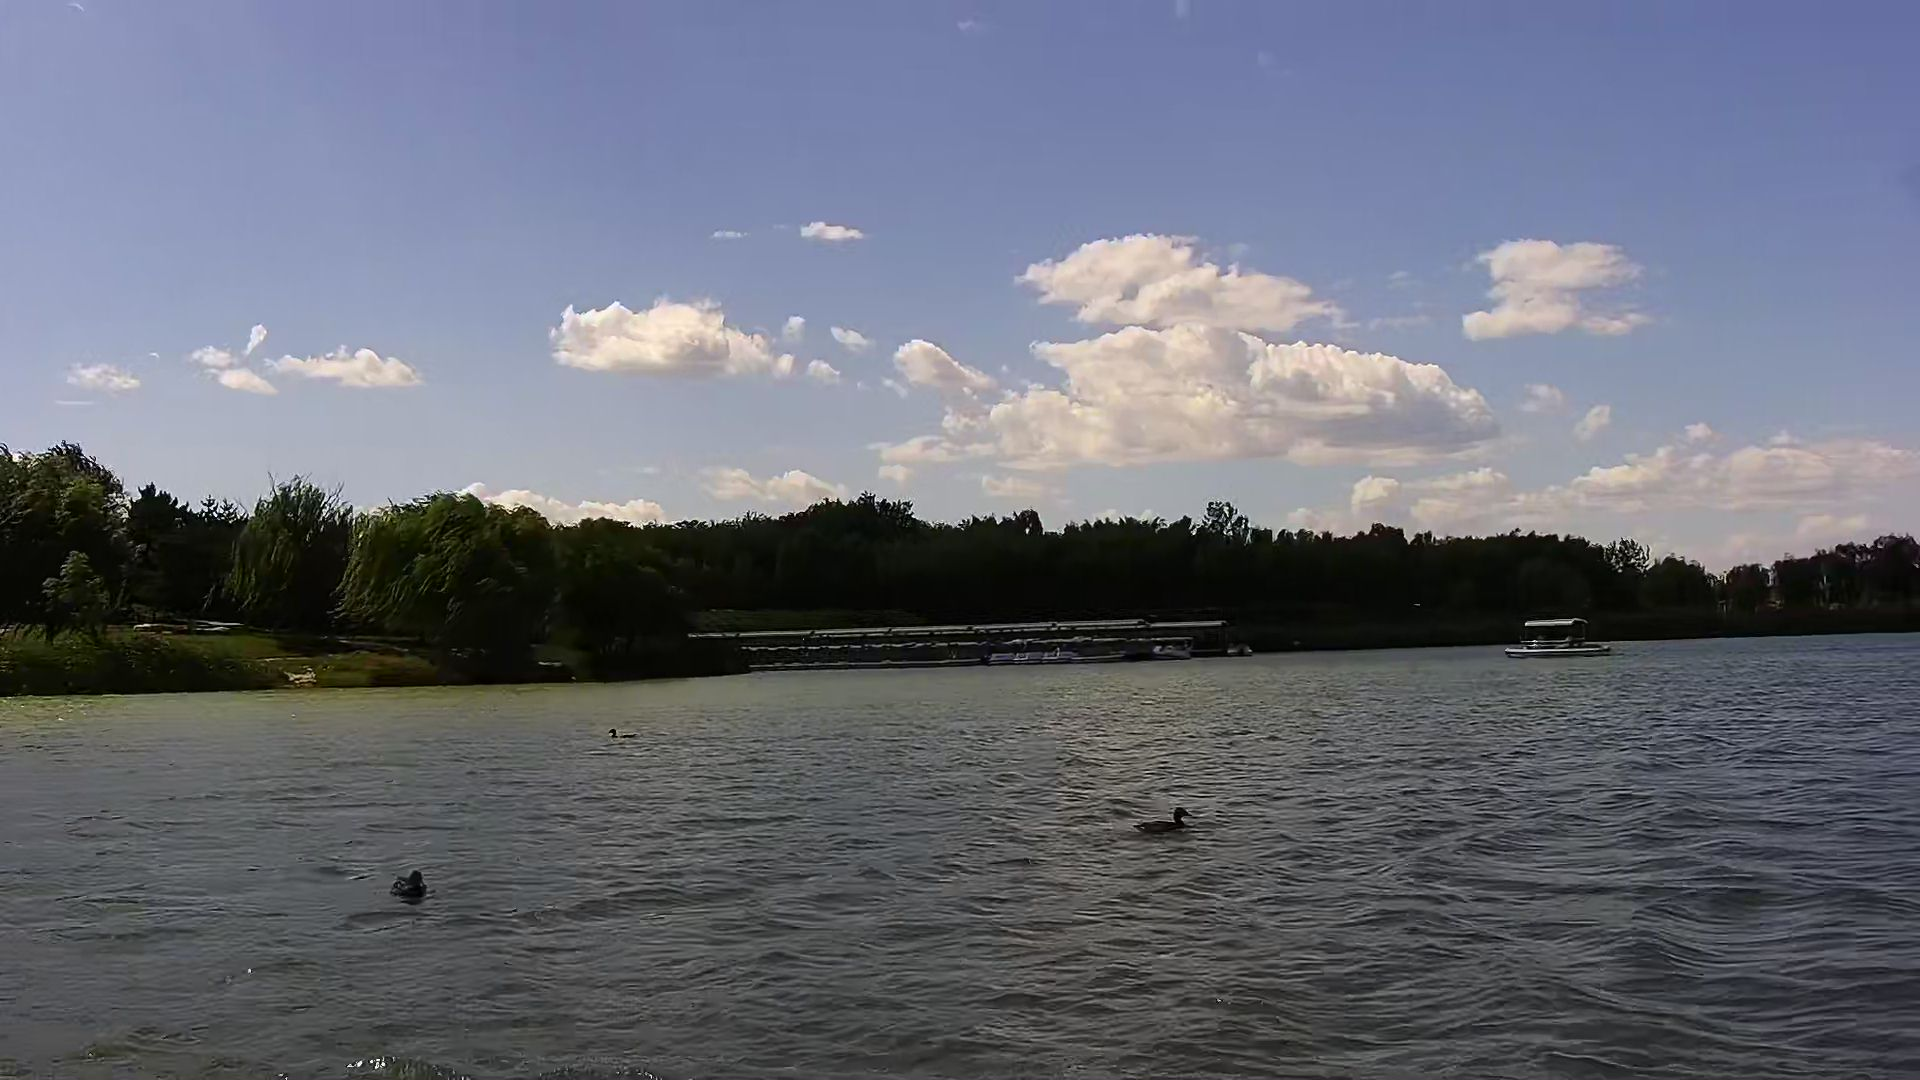animal: (1130, 804, 1188, 835), (386, 868, 425, 906)
boat: (1503, 616, 1611, 667)
harbor: (752, 620, 1232, 665)
rock: (285, 669, 316, 686)
